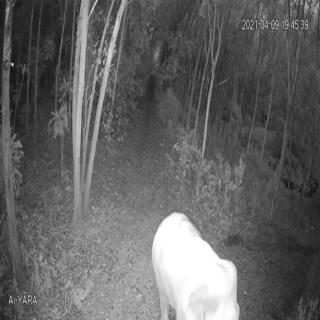Elephant: (148, 206, 247, 320)
